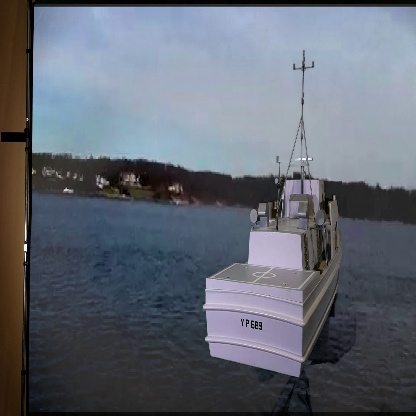YP689: (203, 57, 344, 381)
